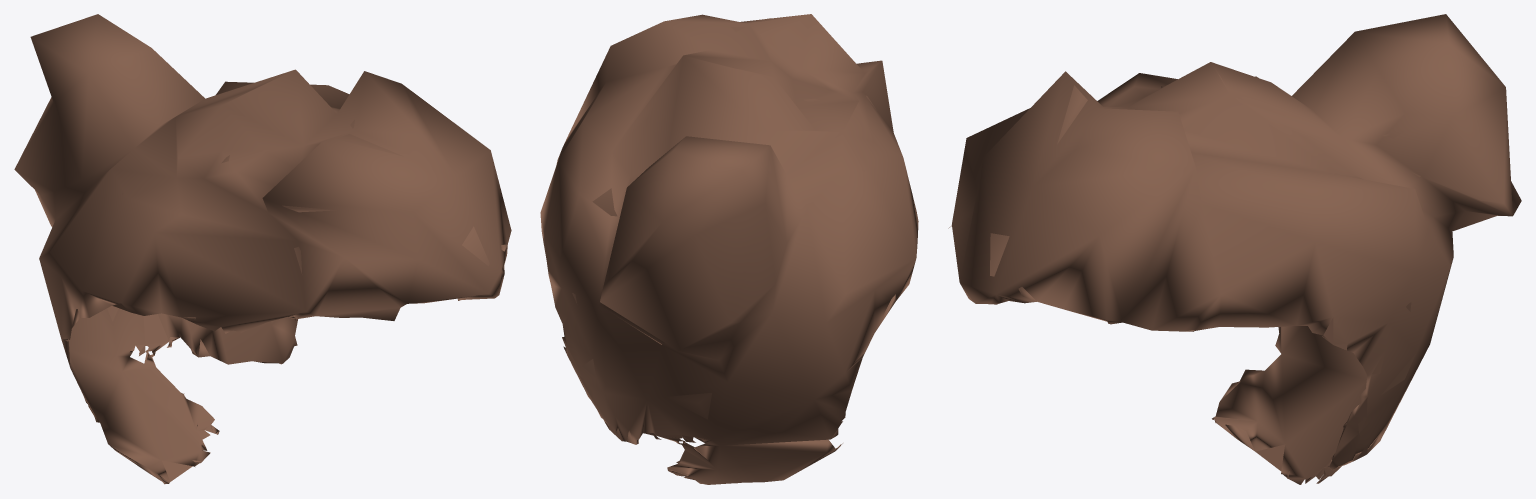
Rendered from Hair_short_LOD1.glb.
3 renders of one model, left to right at view 1: azimuth 30°, elevation 25°; view 2: azimuth 150°, elevation 25°; view 3: azimuth 270°, elevation 25°, orthographic. The views are drawn at different scales.
Visible parts, largest first — view 1: Hair_short_LOD1; view 2: Hair_short_LOD1; view 3: Hair_short_LOD1.
Part boxes in pixels (x1,y1,x2,y2): Hair_short_LOD1: (14, 14, 511, 484); Hair_short_LOD1: (540, 14, 918, 484); Hair_short_LOD1: (948, 14, 1521, 484).
Size of the model in its own units: 0.2613 by 0.265 by 0.325.
